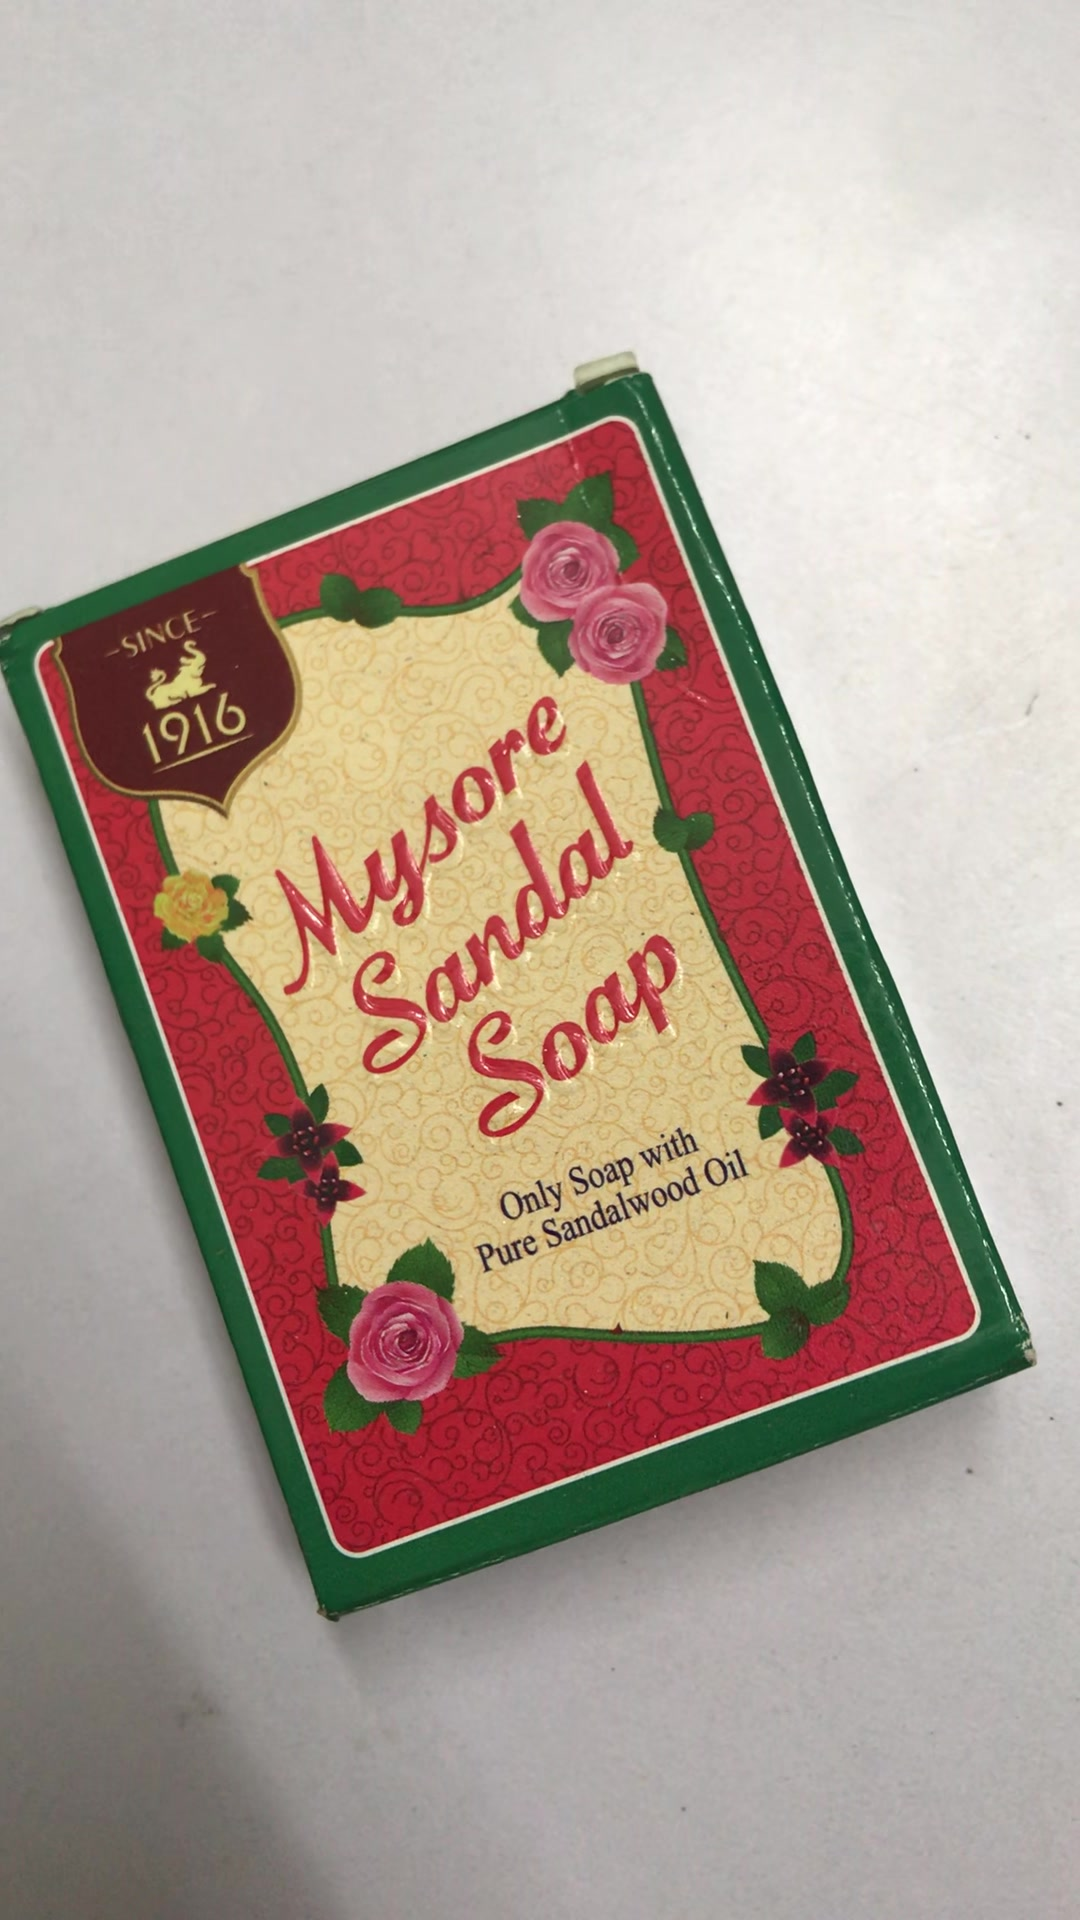mysore sandal soap: (5, 378, 1034, 1623)
